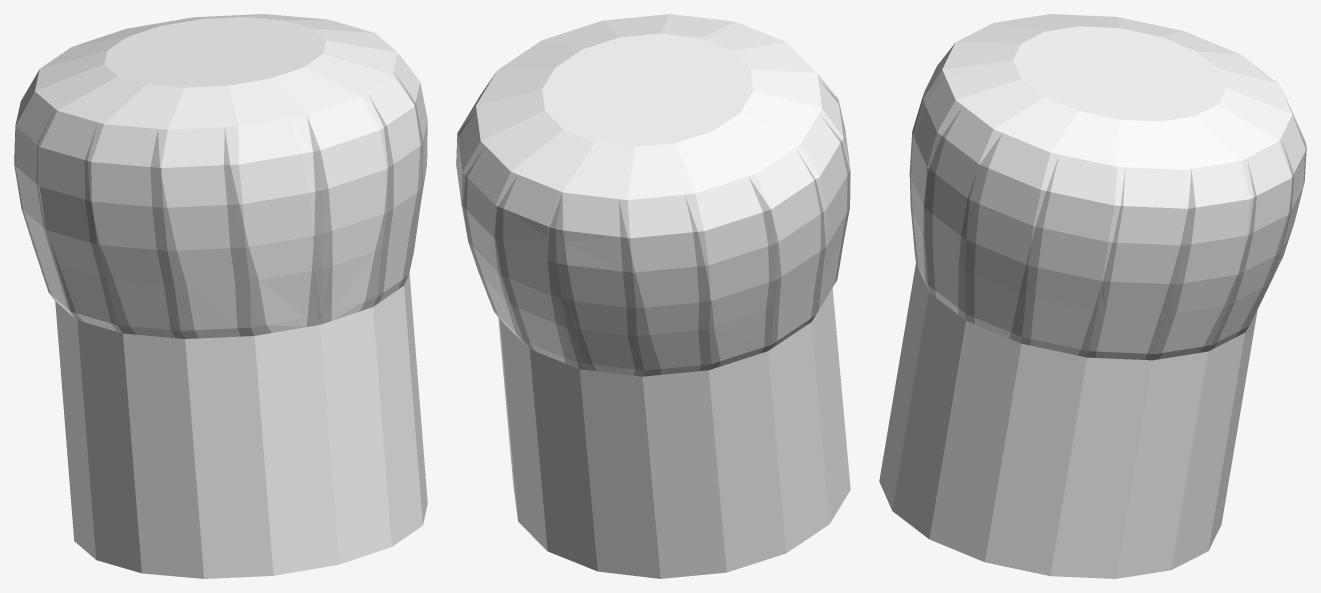
The model's file is Chef Hat.fbx.
The picture shows the model from 3 angles, left to right: view 1: azimuth 30°, elevation 25°; view 2: azimuth 150°, elevation 25°; view 3: azimuth 270°, elevation 25°; orthographic projection. The views are drawn at different scales.
Visible parts, largest first — view 1: Cube; view 2: Cube; view 3: Cube.
Boxes of the visible parts, bbox=[...] form: Cube: bbox=[14, 14, 427, 578]; Cube: bbox=[456, 14, 850, 578]; Cube: bbox=[879, 14, 1306, 578].
Bounding box in the file's own units: 30.33 × 38.36 × 31.99.
